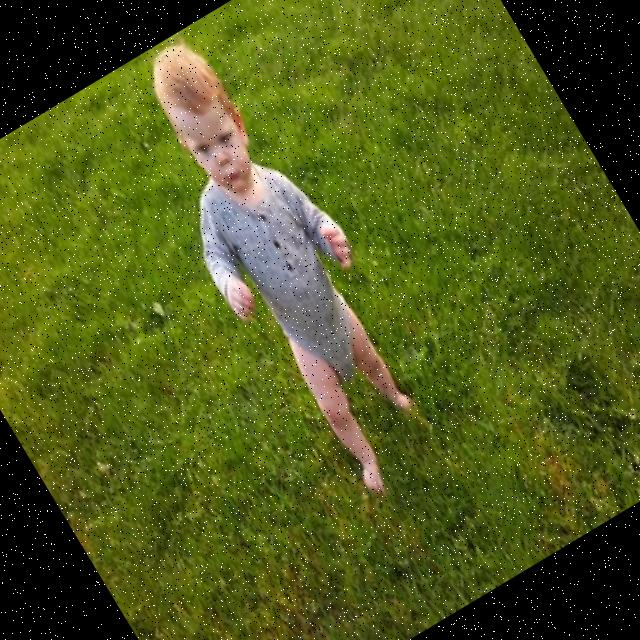Person: (98, 18, 471, 513)
